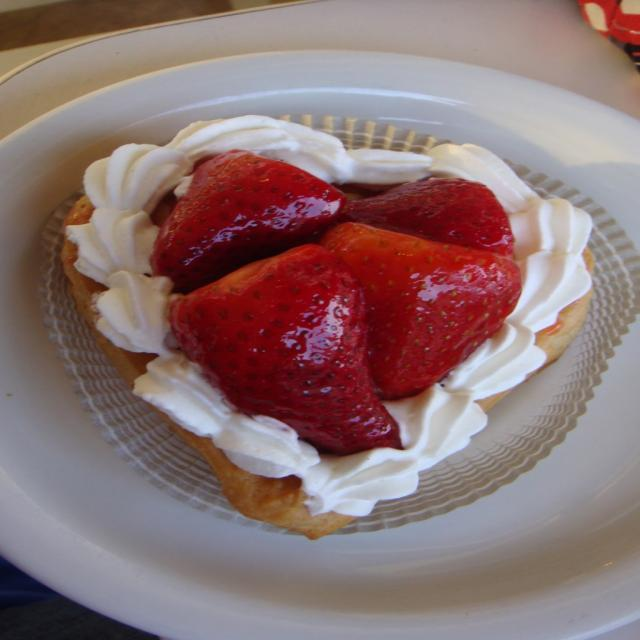Strawberry: (172, 242, 411, 446), (326, 223, 524, 401), (155, 149, 352, 293), (336, 174, 522, 266)
